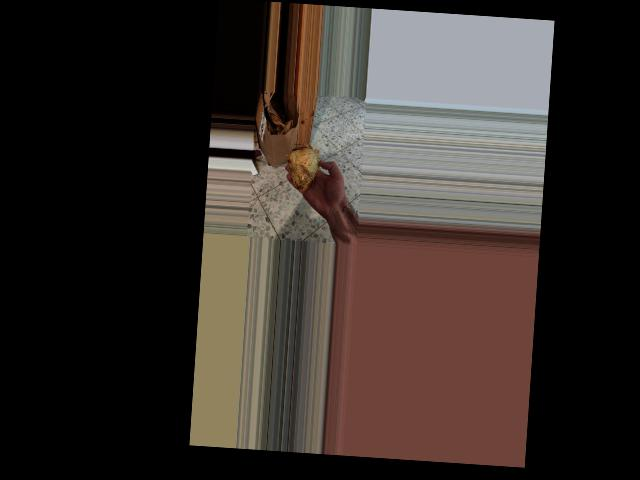onion: (284, 143, 323, 193)
